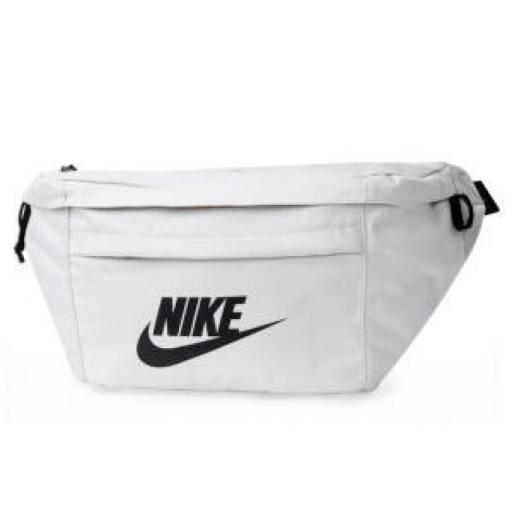Nike: (135, 330, 256, 370), (153, 295, 248, 338)
